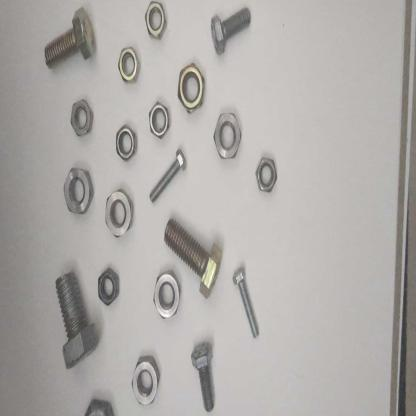Bolts: (165, 210, 222, 302), (50, 268, 98, 376), (43, 4, 100, 75), (146, 140, 189, 214), (228, 260, 265, 342), (183, 334, 220, 412), (208, 6, 256, 60)
NUTS: (172, 56, 208, 116), (212, 108, 244, 174), (126, 352, 162, 410), (152, 266, 183, 328), (62, 162, 94, 220), (102, 182, 135, 238), (139, 0, 174, 44), (254, 146, 281, 202), (110, 119, 145, 161), (69, 94, 94, 148), (147, 101, 174, 148), (98, 264, 124, 310), (118, 44, 143, 84)
